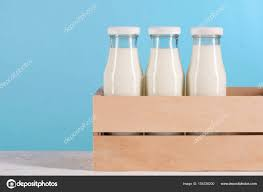milk: (95, 12, 141, 93), (144, 25, 183, 98), (189, 23, 229, 94)
